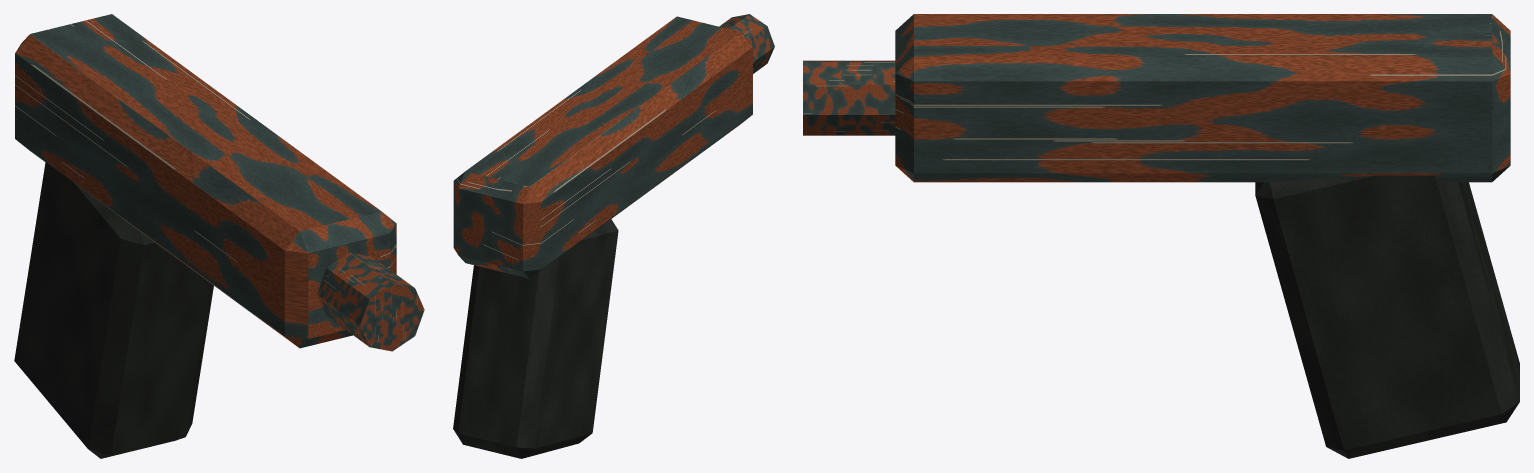
The model's file is pistol.glb.
3 renders of one model, left to right at view 1: azimuth 30°, elevation 25°; view 2: azimuth 150°, elevation 25°; view 3: azimuth 270°, elevation 25°, orthographic. The views are drawn at different scales.
Parts seen in each view (by area): view 1: gear__BODY; view 2: gear__BODY; view 3: gear__BODY.
Boxes of the visible parts, <box> form: gear__BODY: <box>14,14,424,458</box>; gear__BODY: <box>453,14,774,458</box>; gear__BODY: <box>803,14,1519,458</box>.
Size of the model in its own units: 0.045 by 0.1449 by 0.233.
Materials: 2 (2 with a texture image).
